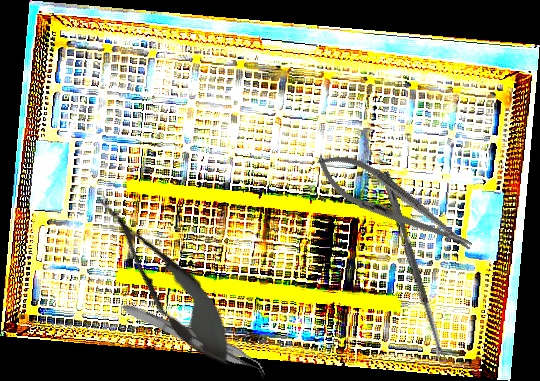Micro Scissor: (79, 180, 252, 380)
Needle Holder: (307, 141, 482, 266)
Surgical Spoon: (380, 171, 447, 364)
Tissue Forceps: (117, 300, 272, 380)
